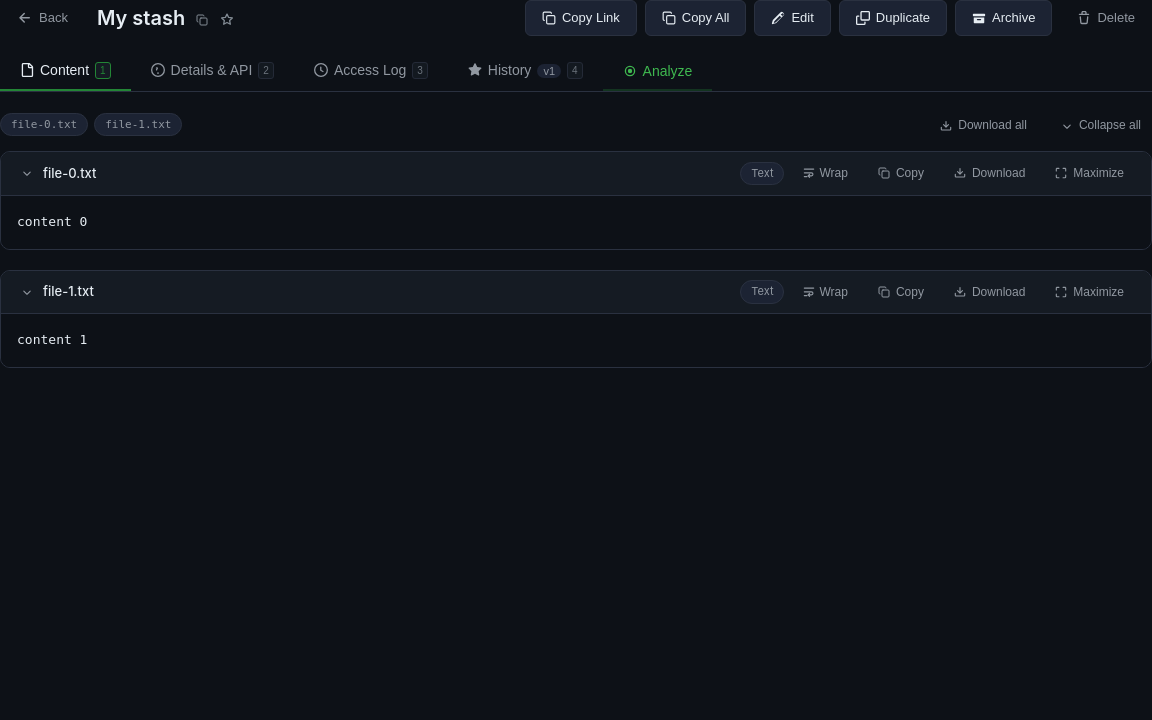
Test: StashViewer per-file maximize › shows a collapsed file while maximized and leaves it collapsed afterwards
Click the button named "Collapse file-1.txt": click(27, 292) [17,282,37,302]
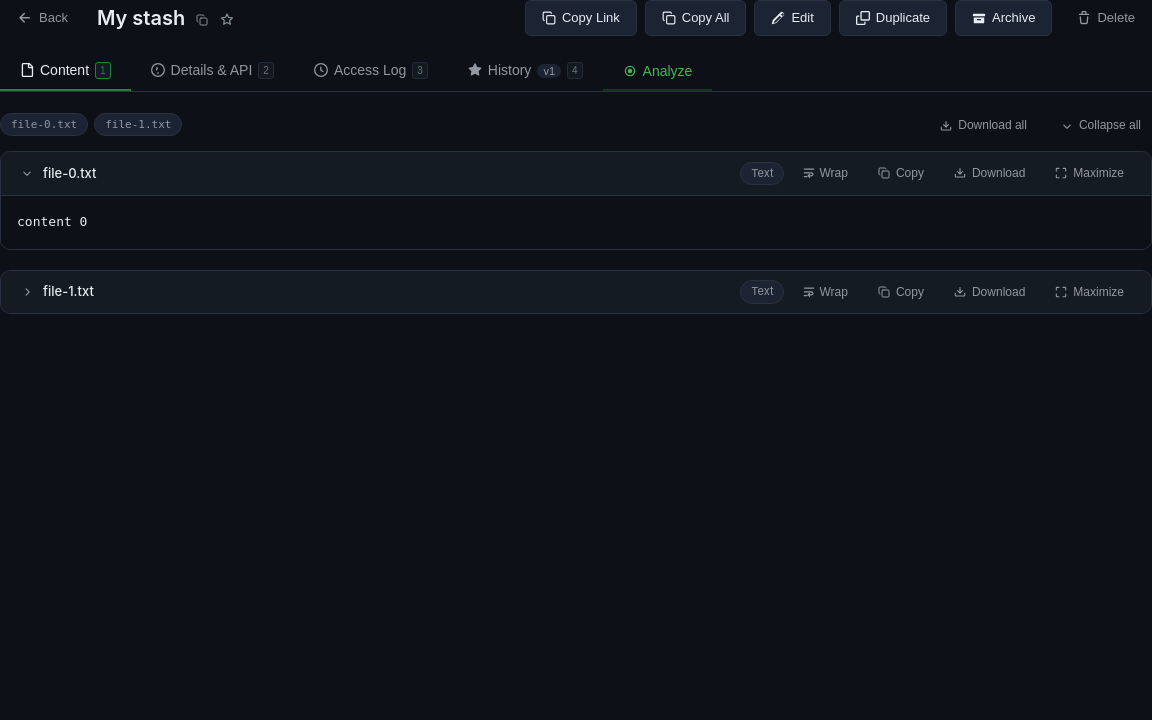
Click the button with aria-label "Maximize file-1.txt": click(1090, 292) [1044,279,1135,305]
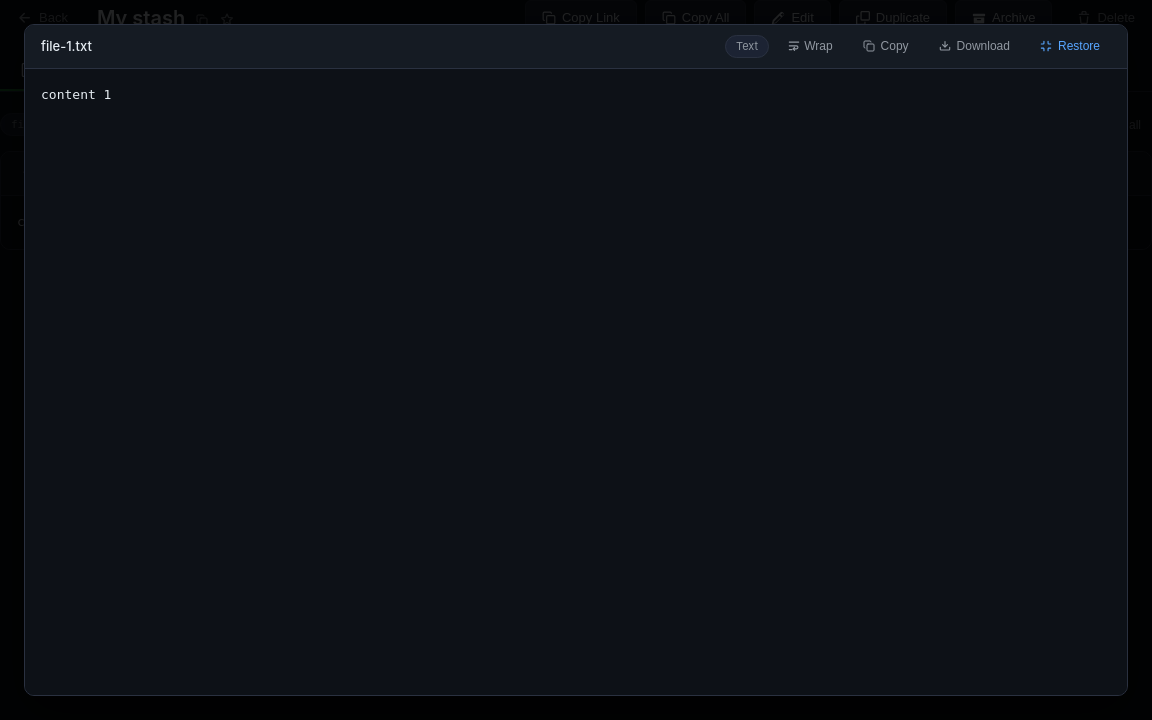
Expected: the element with class "file-content" showing "content 1" is shown
Click the button with aria-label "Restore file-1.txt": click(1070, 46) [1029,33,1111,60]
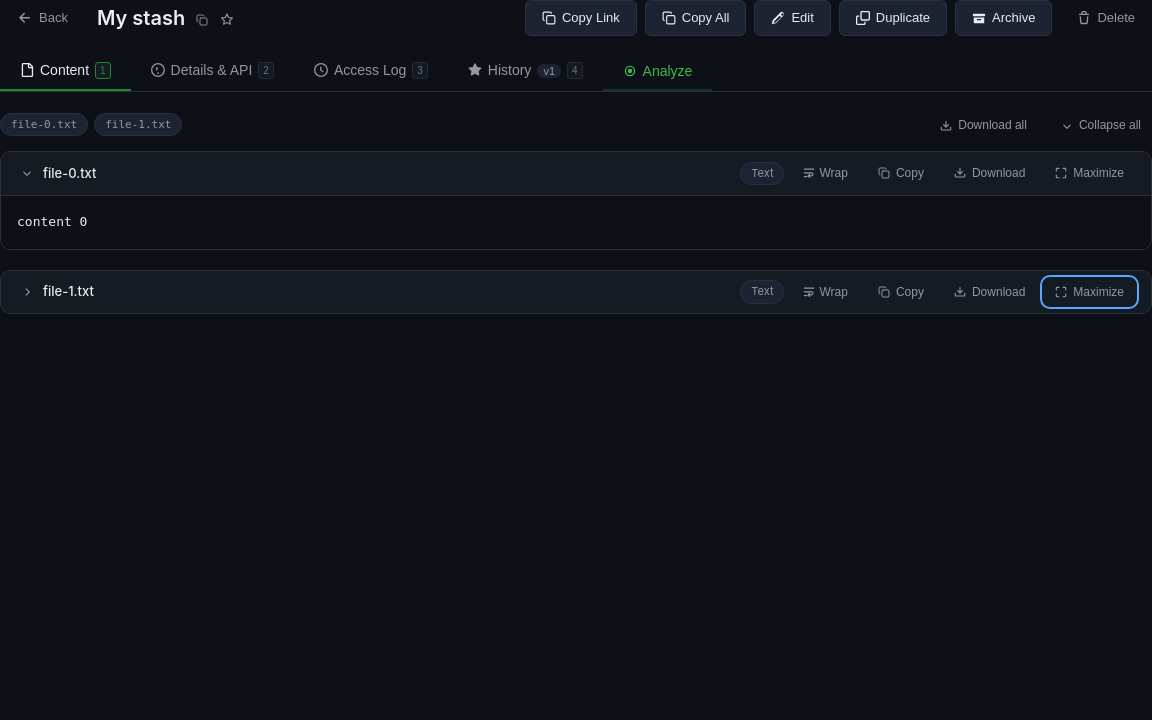
Expected: the button named "Expand file-1.txt" is shown, [17,282,37,302]
